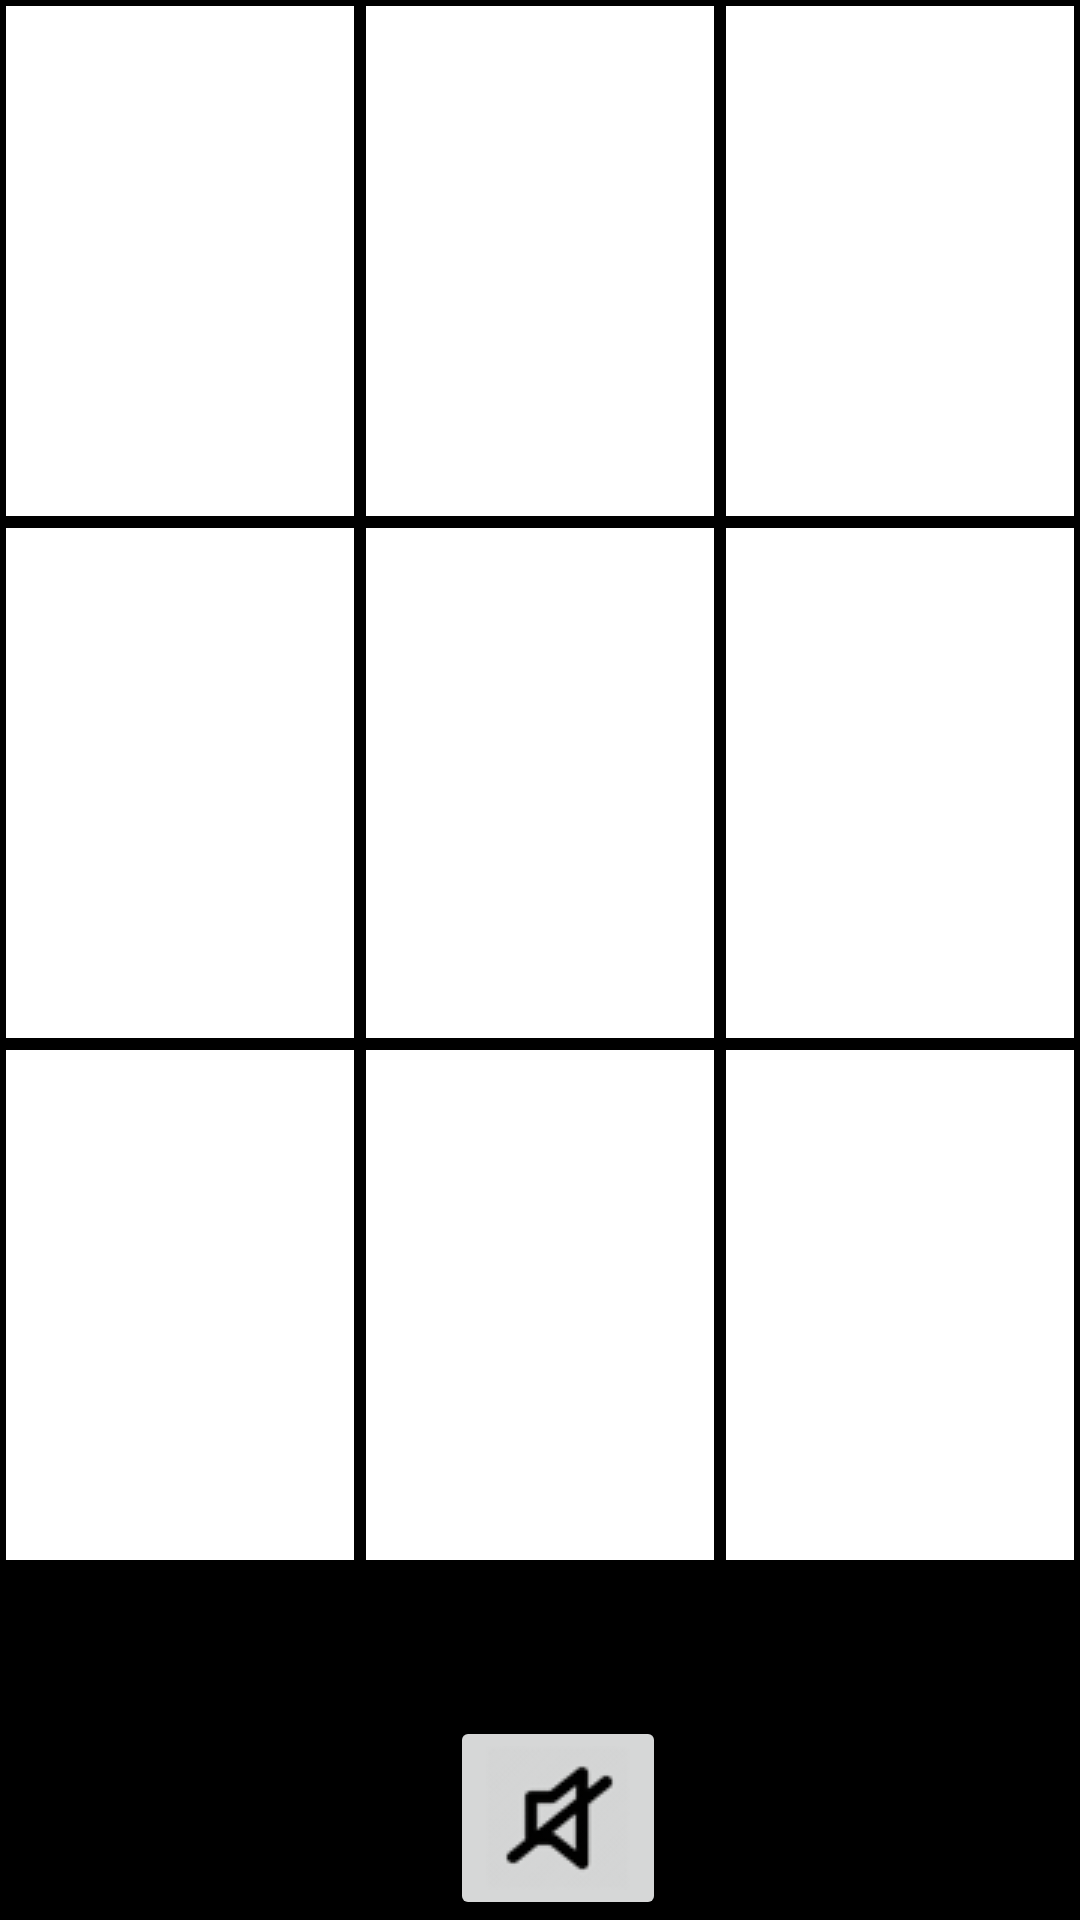

Locate icon controls on the screen. Image size 1080×1920, boxes as (left=x1, top=y1, right=x2, bottom=y2).
mute volume: (left=462, top=1734, right=654, bottom=1902)
